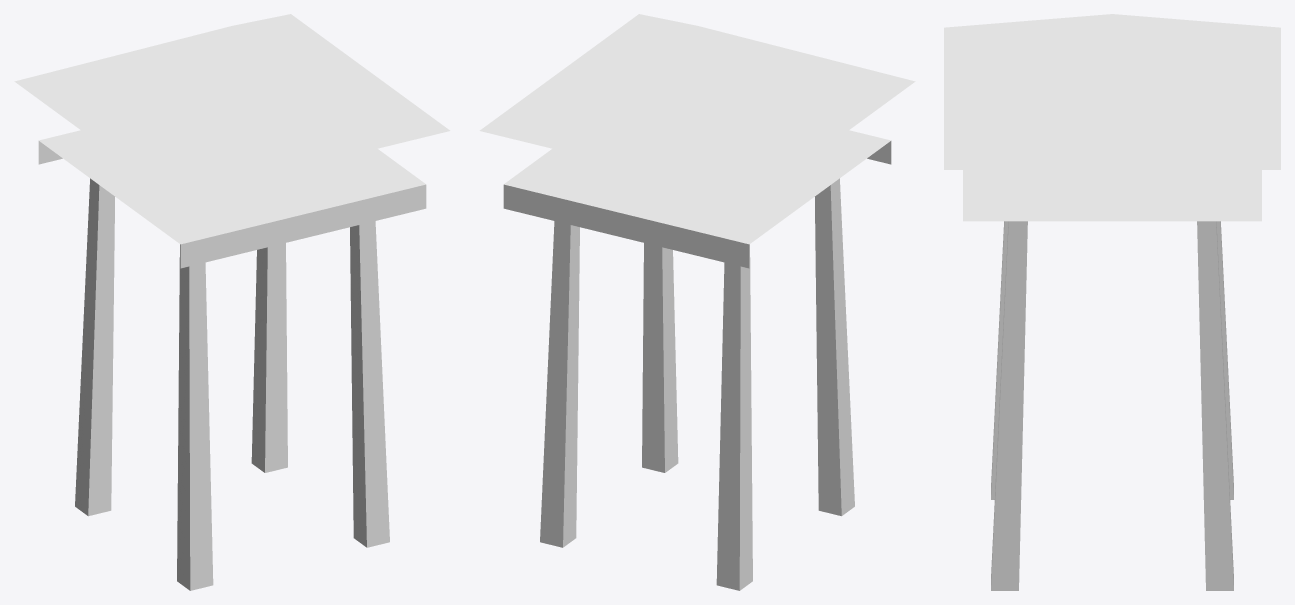
Rendered from watchtower.obj.
3 views of the same model, side by side, from view 1: azimuth 30°, elevation 25°; view 2: azimuth 150°, elevation 25°; view 3: azimuth 270°, elevation 25° (orthographic). The views are drawn at different scales.
Visible parts, largest first — view 1: WatchTower; view 2: WatchTower; view 3: WatchTower.
Boxes of the visible parts, x1,y1,x2,y2 form: WatchTower: (14, 14, 450, 590); WatchTower: (479, 14, 915, 590); WatchTower: (944, 14, 1280, 590).
Bounding box in the file's own units: 3.6 × 6.2 × 3.6.
3 materials, 3 textured.
